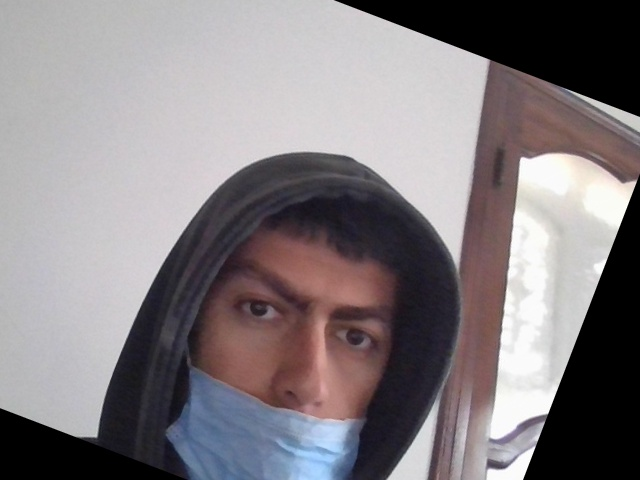mask_weared_incorrect: (180, 205, 390, 480)
